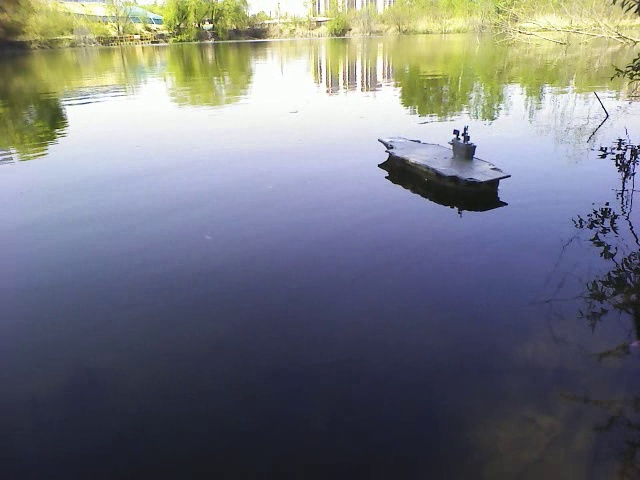aircraft_carrier: (374, 127, 514, 193)
